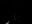person: (4, 20, 11, 24)
